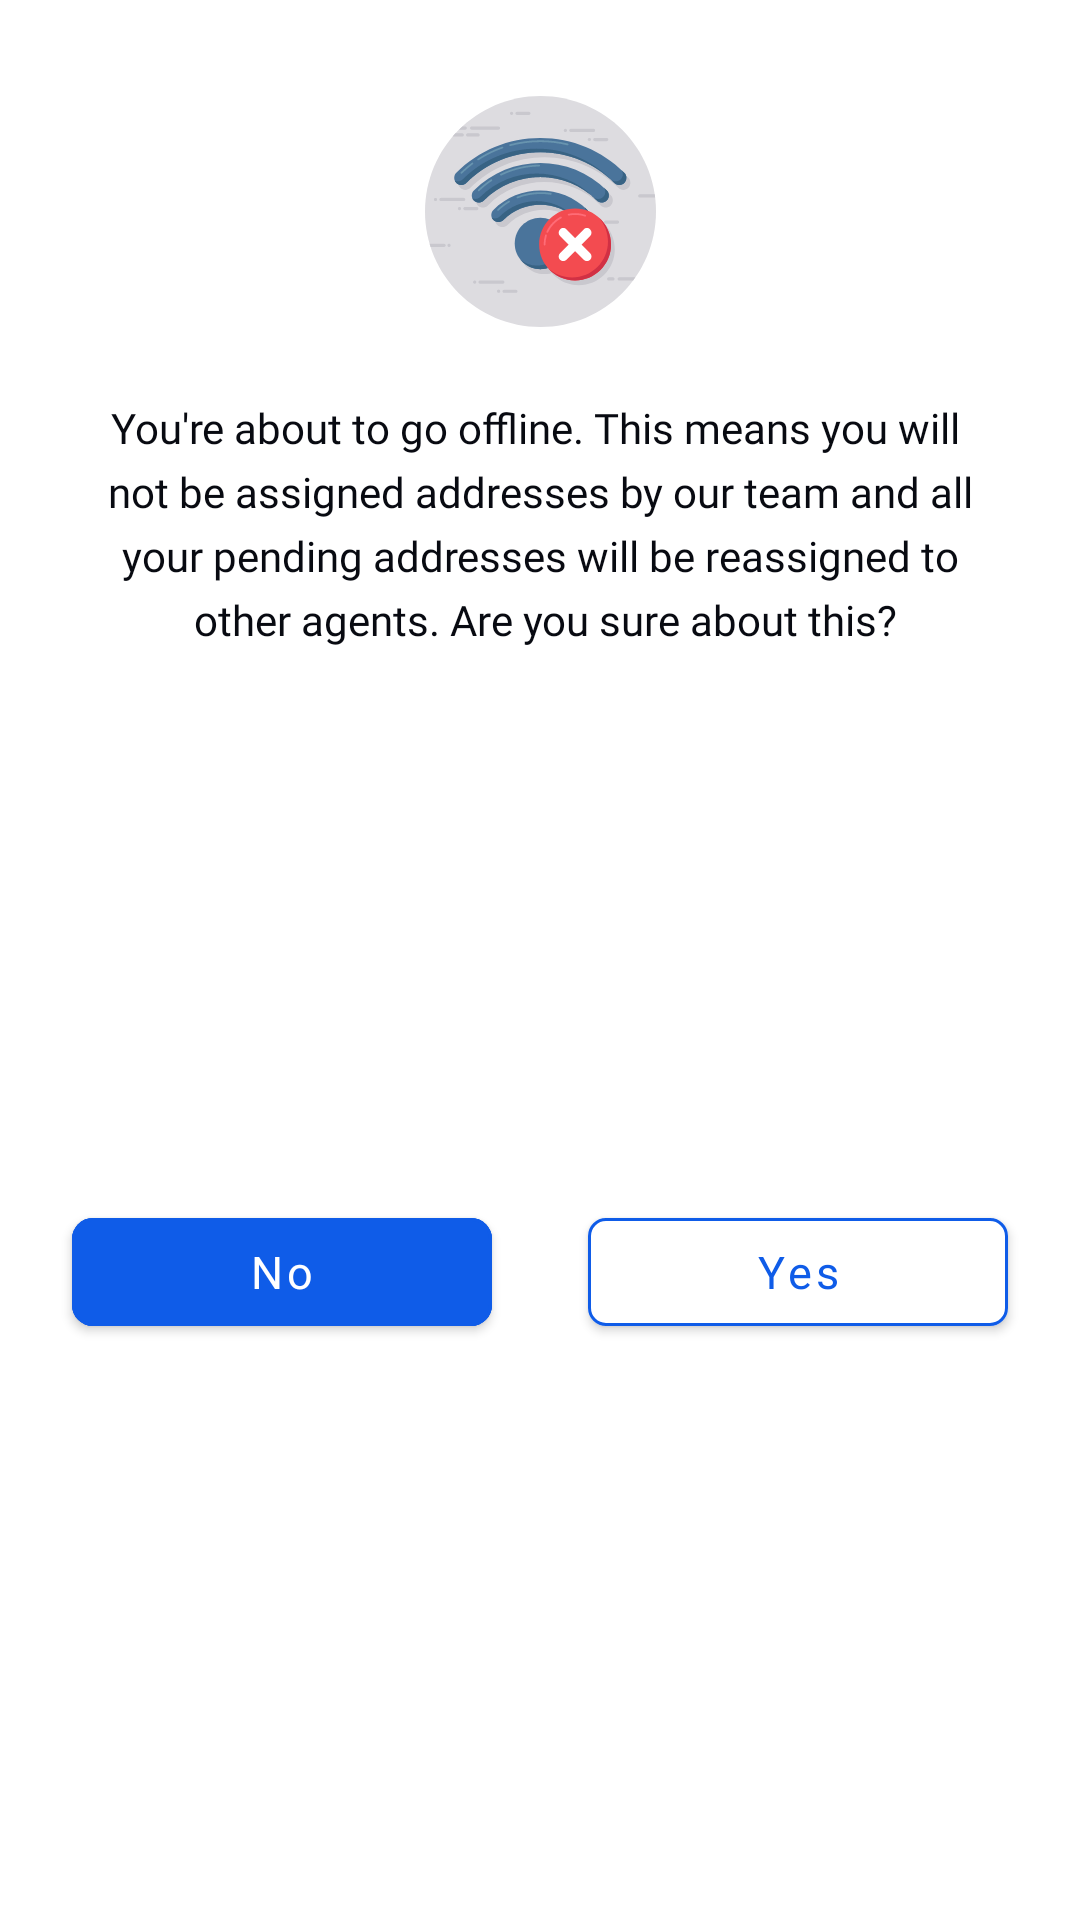

Icons on this 1080x1920 Android screen, each with its box as (x1=x1, y1=y1, x2=x2, y2=y2):
error status: (x1=425, y1=96, x2=656, y2=327)
